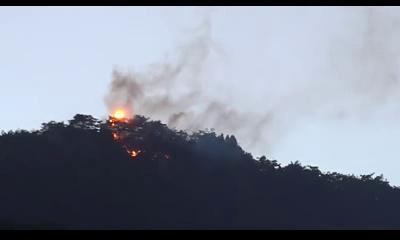fire: (110, 108, 127, 122)
smoke: (104, 64, 211, 110)
